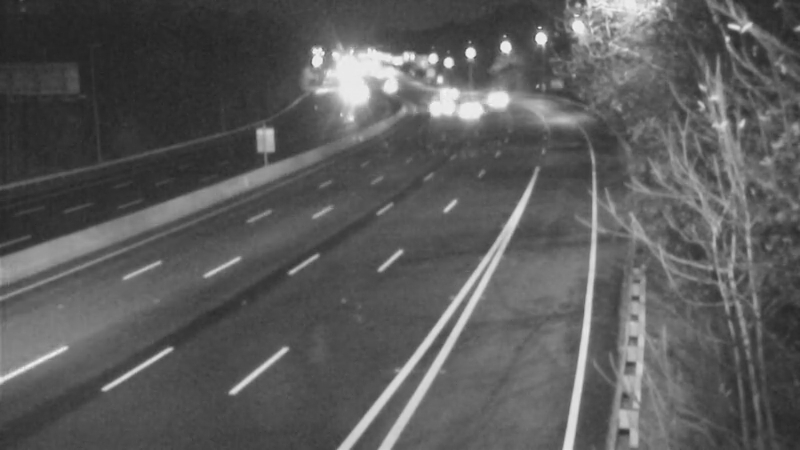vehicle: (446, 75, 496, 125), (410, 76, 460, 126), (473, 68, 523, 118), (416, 61, 466, 111)
